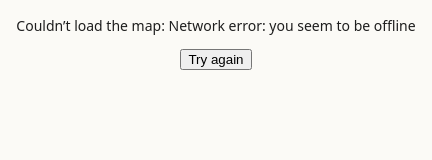
Test case: ViewPage › shows "Loading map…" at once when Try again is clicked, not the old error
Check: the message "Couldn’t load the map: Network error: you seem to be offline" is shown, box [16,16,416,35]
What coordinates should you click on to do the following:
click the button "Try again"
I would click on:
 (216, 60)
Its box is [180,49,252,70].
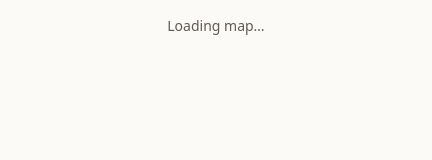
Check: the message "Couldn’t load the map: Network error: you seem to be offline" is gone
Check: the text "Loading map…" is shown, box [167,16,265,35]
